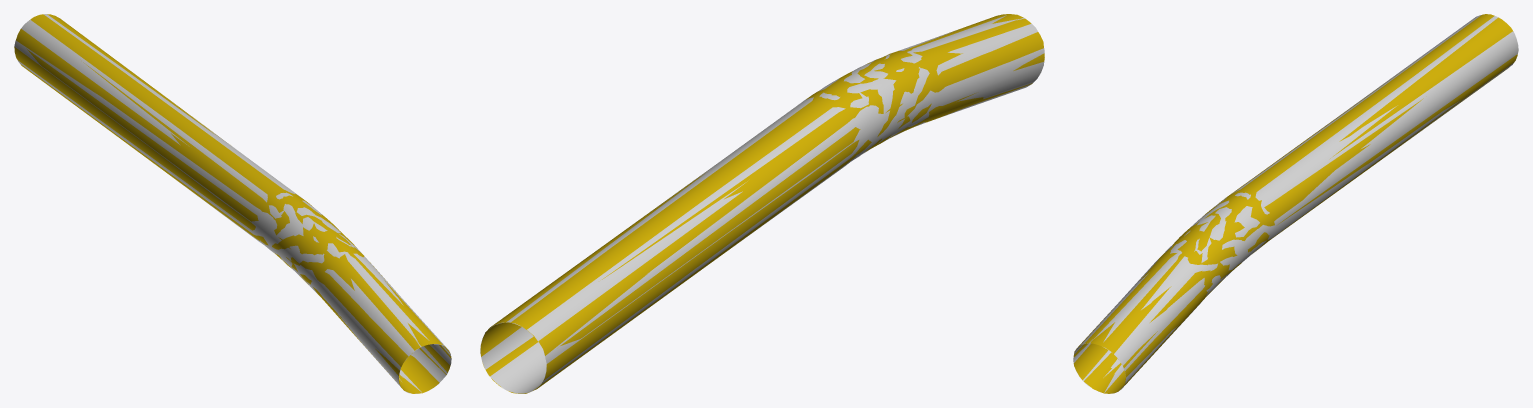
File: original_12.obj
3 views of the same model, side by side, from view 1: azimuth 30°, elevation 25°; view 2: azimuth 150°, elevation 25°; view 3: azimuth 330°, elevation 25° (orthographic). The views are drawn at different scales.
Visible parts, largest first — view 1: #ID65; view 2: #ID65; view 3: #ID65.
Part boxes in pixels (x1,y1,x2,y2): #ID65: (14,14,451,393); #ID65: (480,14,1044,393); #ID65: (1073,14,1518,393).
Bounding box in the file's own units: 0.0303 × 0.0502 × 0.3683.
